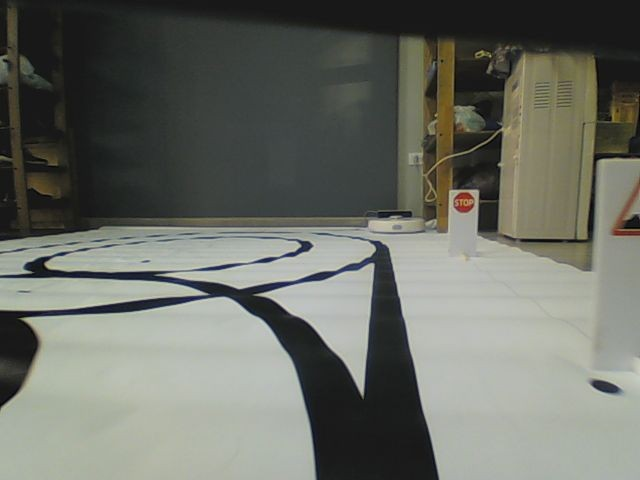Stop: (453, 191, 476, 214)
